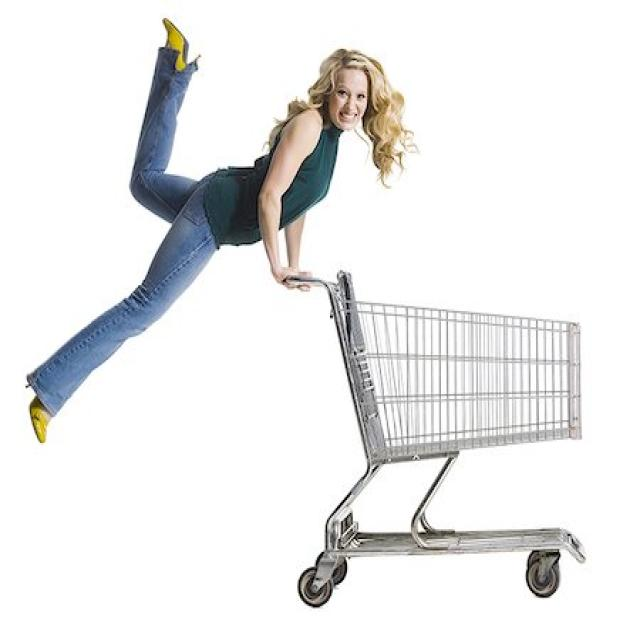Person: (24, 18, 420, 444)
